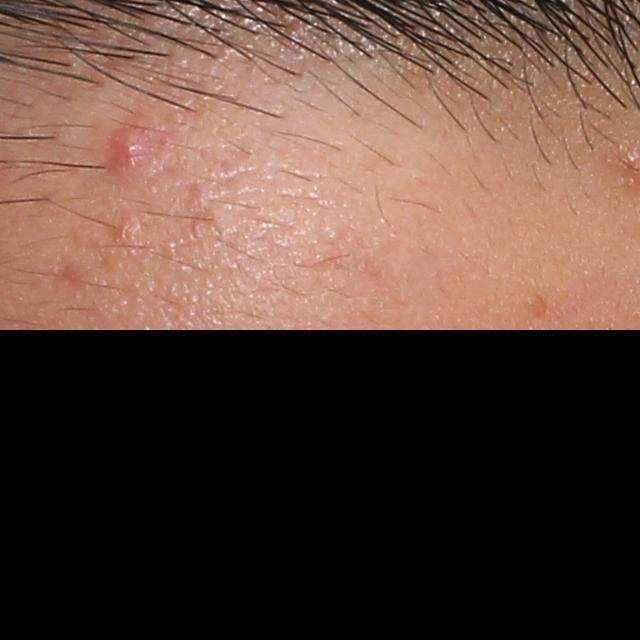papule: (105, 127, 150, 172)
